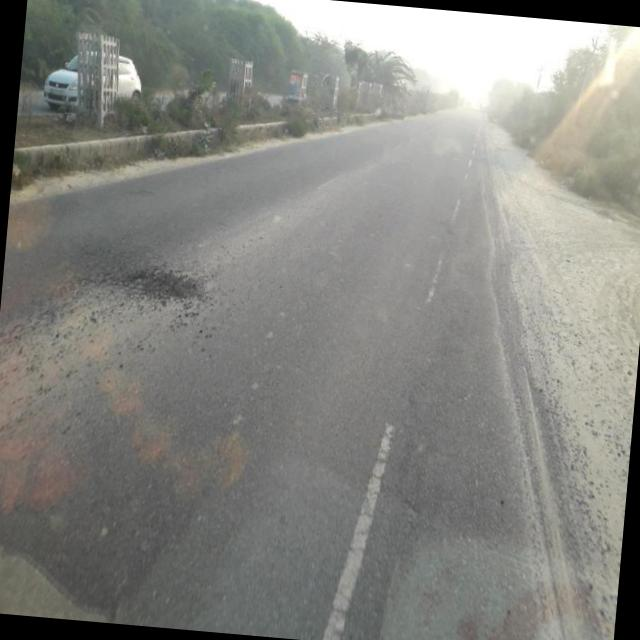crack: (39, 224, 182, 311)
